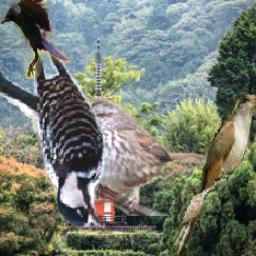Crow: (0, 0, 69, 79)
Cuckoo: (174, 93, 256, 255)
Sparrow: (71, 96, 208, 217)
Woodpecker: (0, 53, 112, 235)
